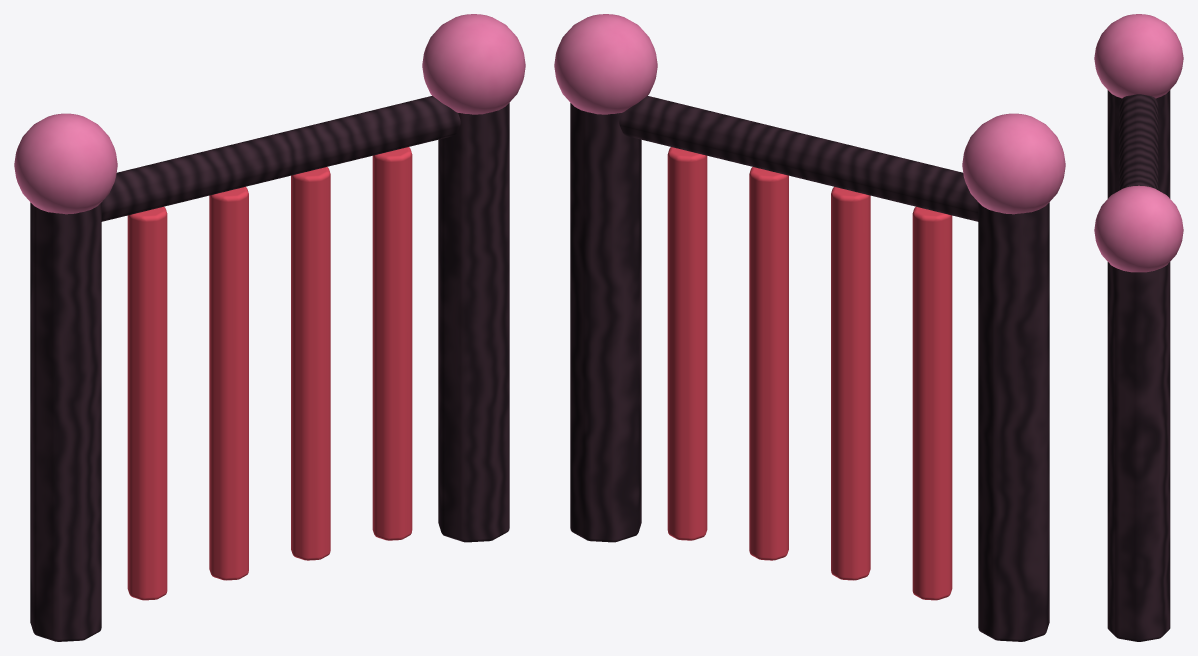
Rendered from licorice_gate.glb.
3 renders of one model, left to right at view 1: azimuth 30°, elevation 25°; view 2: azimuth 150°, elevation 25°; view 3: azimuth 270°, elevation 25°, orthographic. The views are drawn at different scales.
Parts seen in each view (by area): view 1: licorice_gate_body, Lg_Bar3_x, Lg_Bar0_x, Lg_Bar2_x, Lg_Bar1_x; view 2: licorice_gate_body, Lg_Bar3_x, Lg_Bar0_x, Lg_Bar2_x, Lg_Bar1_x; view 3: licorice_gate_body.
Boxes of the visible parts, x1,y1,x2,y2 form: licorice_gate_body: (14, 14, 525, 641); Lg_Bar3_x: (372, 147, 412, 540); Lg_Bar0_x: (127, 206, 167, 600); Lg_Bar2_x: (291, 167, 330, 560); Lg_Bar1_x: (209, 186, 248, 580); licorice_gate_body: (554, 14, 1065, 641); Lg_Bar3_x: (667, 147, 707, 540); Lg_Bar0_x: (912, 206, 952, 600); Lg_Bar2_x: (749, 167, 788, 560); Lg_Bar1_x: (831, 186, 870, 580); licorice_gate_body: (1094, 14, 1183, 641).
Bounding box in the file's own units: 1.22 × 1.2 × 0.22.
2 materials, 1 textured.
